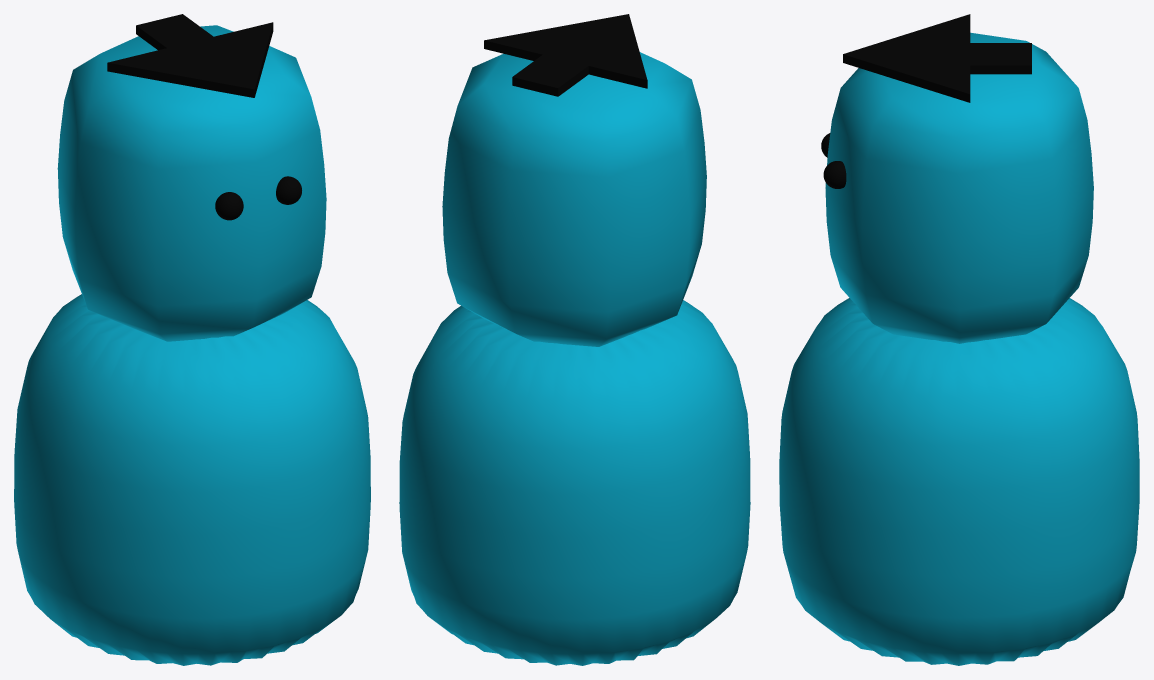
The model's file is Character 4.obj.
3 views of the same model, side by side, from view 1: azimuth 30°, elevation 25°; view 2: azimuth 150°, elevation 25°; view 3: azimuth 270°, elevation 25° (orthographic).
Parts seen in each view (by area): view 1: 1_Cylinder.002, 2_Cube.002_Cube.004; view 2: 1_Cylinder.002, 2_Cube.002_Cube.004; view 3: 1_Cylinder.002, 2_Cube.002_Cube.004.
Part boxes in pixels (x1,y1,x2,y2): 1_Cylinder.002: (14,25,370,665); 2_Cube.002_Cube.004: (107,14,301,220); 1_Cylinder.002: (399,52,750,665); 2_Cube.002_Cube.004: (484,14,647,96); 1_Cylinder.002: (779,32,1139,665); 2_Cube.002_Cube.004: (821,14,1031,188).
Bounding box in the file's own units: 0.2401 × 0.436 × 0.2477.
